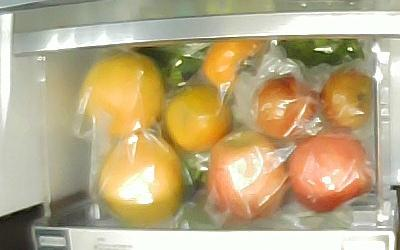apple_vinyl: (286, 132, 371, 213), (209, 130, 287, 218)
grapefruit_vinyl: (99, 133, 181, 223), (81, 52, 163, 139)
persimmon_vinyl: (167, 86, 233, 152), (203, 40, 269, 92)
prune_vinyl: (251, 77, 320, 138), (320, 72, 372, 130)
